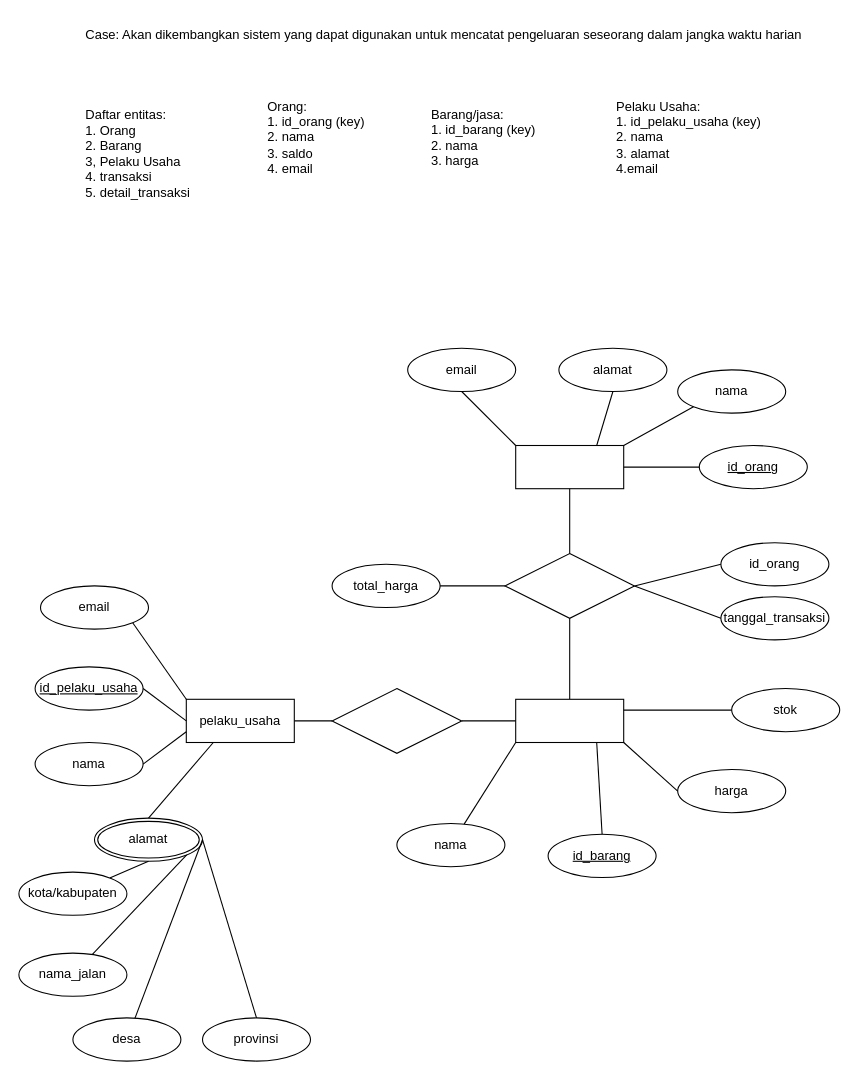
The diagram is 859 pixels wide and 1080 high, and some of its shapes have lost their labels. The shapes that lost their labels are listed below. From the top down, each one's centre as x and y in pixels, then its label:
the point at 569,466: orang
the point at 569,585: membeli
the point at 396,720: menjual
the point at 569,720: barang
